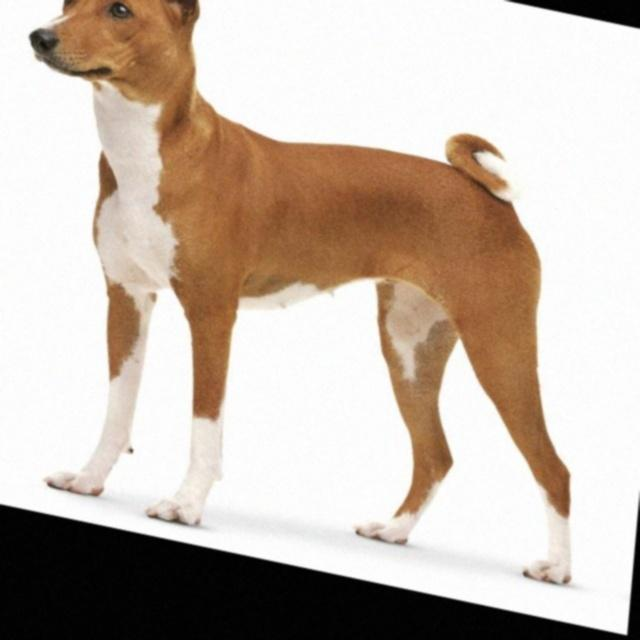dog: (9, 0, 251, 127), (0, 0, 19, 77)
